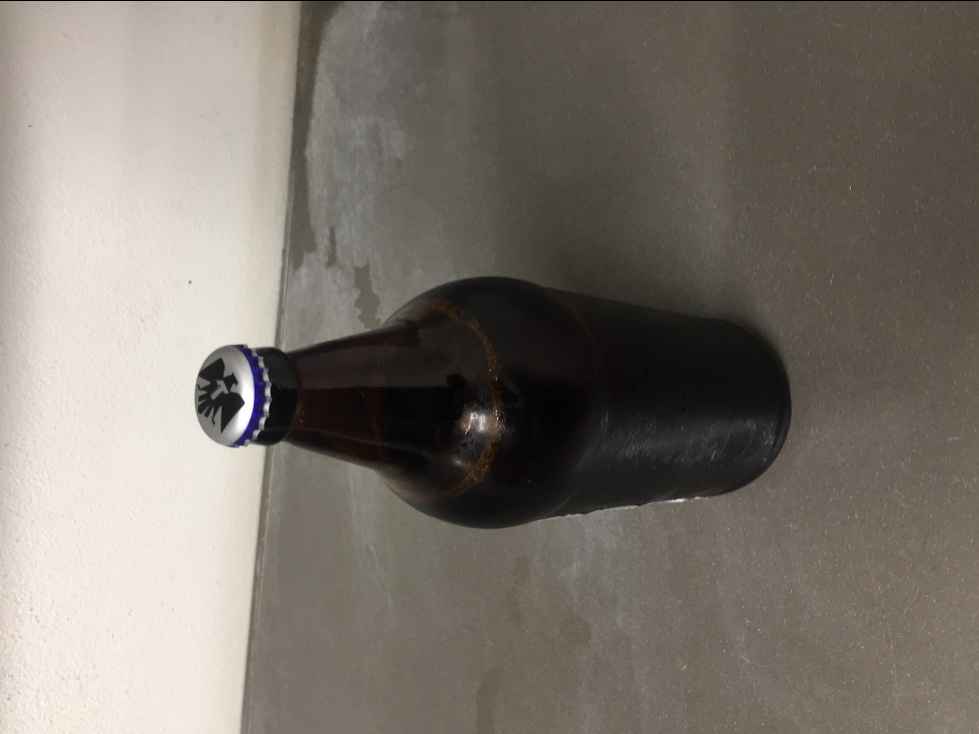tecateC: (195, 270, 793, 533)
